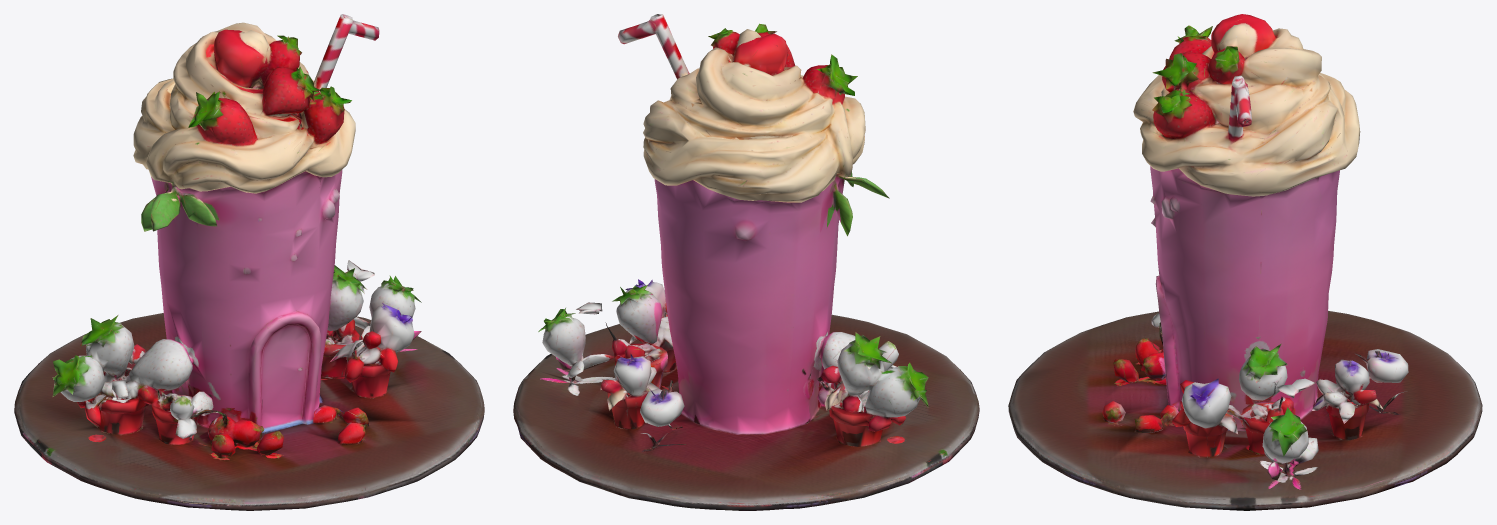
File: Meshy_AI_Strawberry_Dreamhouse_0202115852_texture.fbx
3 views of the same model, side by side, from view 1: azimuth 30°, elevation 25°; view 2: azimuth 150°, elevation 25°; view 3: azimuth 270°, elevation 25° (orthographic).
Parts seen in each view (by area): view 1: Mesh1.0; view 2: Mesh1.0; view 3: Mesh1.0.
Boxes of the visible parts, x1,y1,x2,y2 form: Mesh1.0: [14, 14, 484, 510]; Mesh1.0: [513, 14, 979, 510]; Mesh1.0: [1008, 14, 1482, 510].
Bounding box in the file's own units: 201 × 181 × 201.
1 material, 1 textured.
